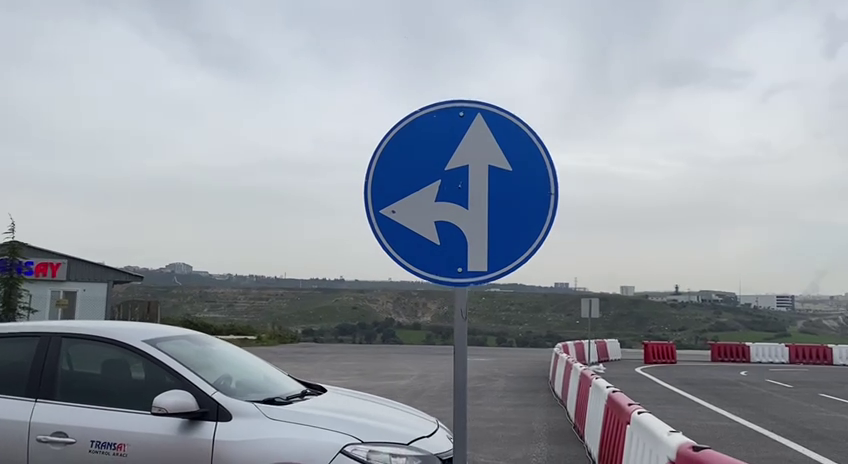forwardAndLeft: (360, 96, 562, 291)
